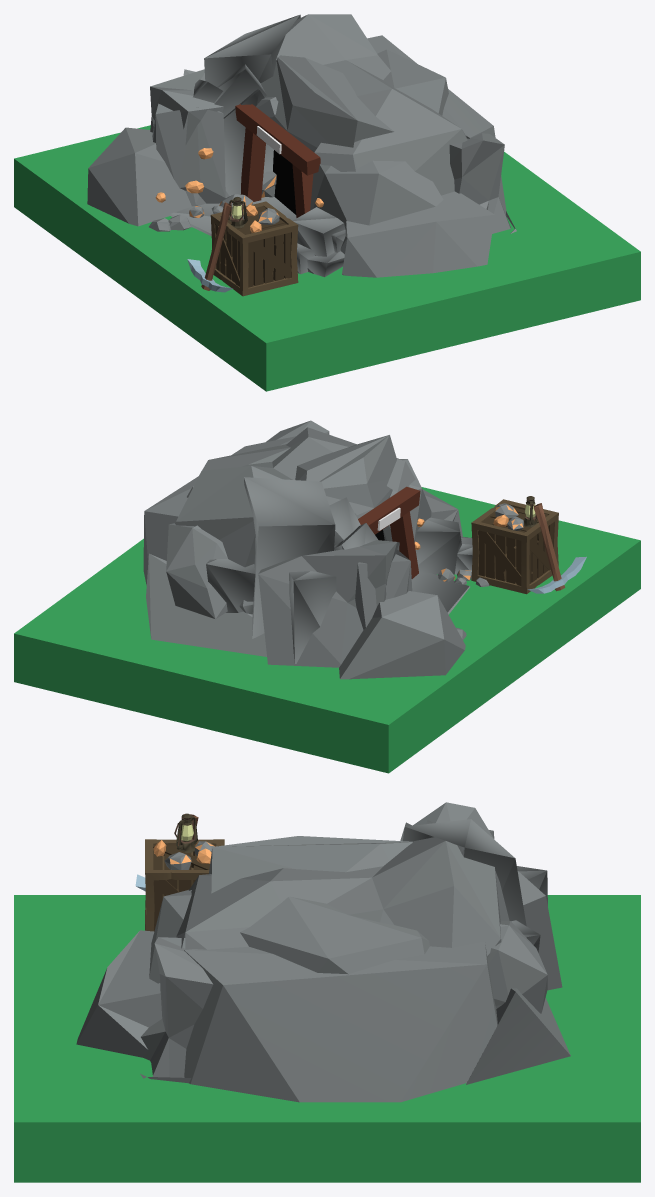
File: mine_new_lvl2.fbx
The picture shows the model from 3 angles, top to bottom: view 1: azimuth 30°, elevation 25°; view 2: azimuth 150°, elevation 25°; view 3: azimuth 270°, elevation 25°; orthographic projection. The views are drawn at different scales.
Parts seen in each view (by area): view 1: rocks, terrain, Crate, pole3, pole2, pickaxe, abyss, pole1; view 2: rocks, terrain, Crate, pickaxe, pole3, pole1; view 3: rocks, terrain, Crate, Lantern.
Part boxes in pixels (bbox=[...]): rocks: bbox=[87, 14, 516, 277]; terrain: bbox=[14, 125, 640, 391]; Crate: bbox=[210, 201, 298, 296]; pole3: bbox=[235, 104, 320, 175]; pole2: bbox=[240, 127, 265, 201]; pickaxe: bbox=[187, 202, 232, 292]; abyss: bbox=[273, 150, 296, 214]; pole1: bbox=[292, 164, 313, 217]; rocks: bbox=[143, 420, 489, 679]; terrain: bbox=[14, 487, 640, 773]; Crate: bbox=[471, 499, 558, 594]; pickaxe: bbox=[527, 503, 586, 593]; pole3: bbox=[358, 486, 420, 534]; pole1: bbox=[390, 511, 418, 578]; rocks: bbox=[76, 802, 570, 1102]; terrain: bbox=[14, 895, 640, 1182]; Crate: bbox=[145, 839, 224, 931]; Lantern: bbox=[174, 813, 197, 852].
Bounding box in the file's own units: 265 × 139 × 309.
